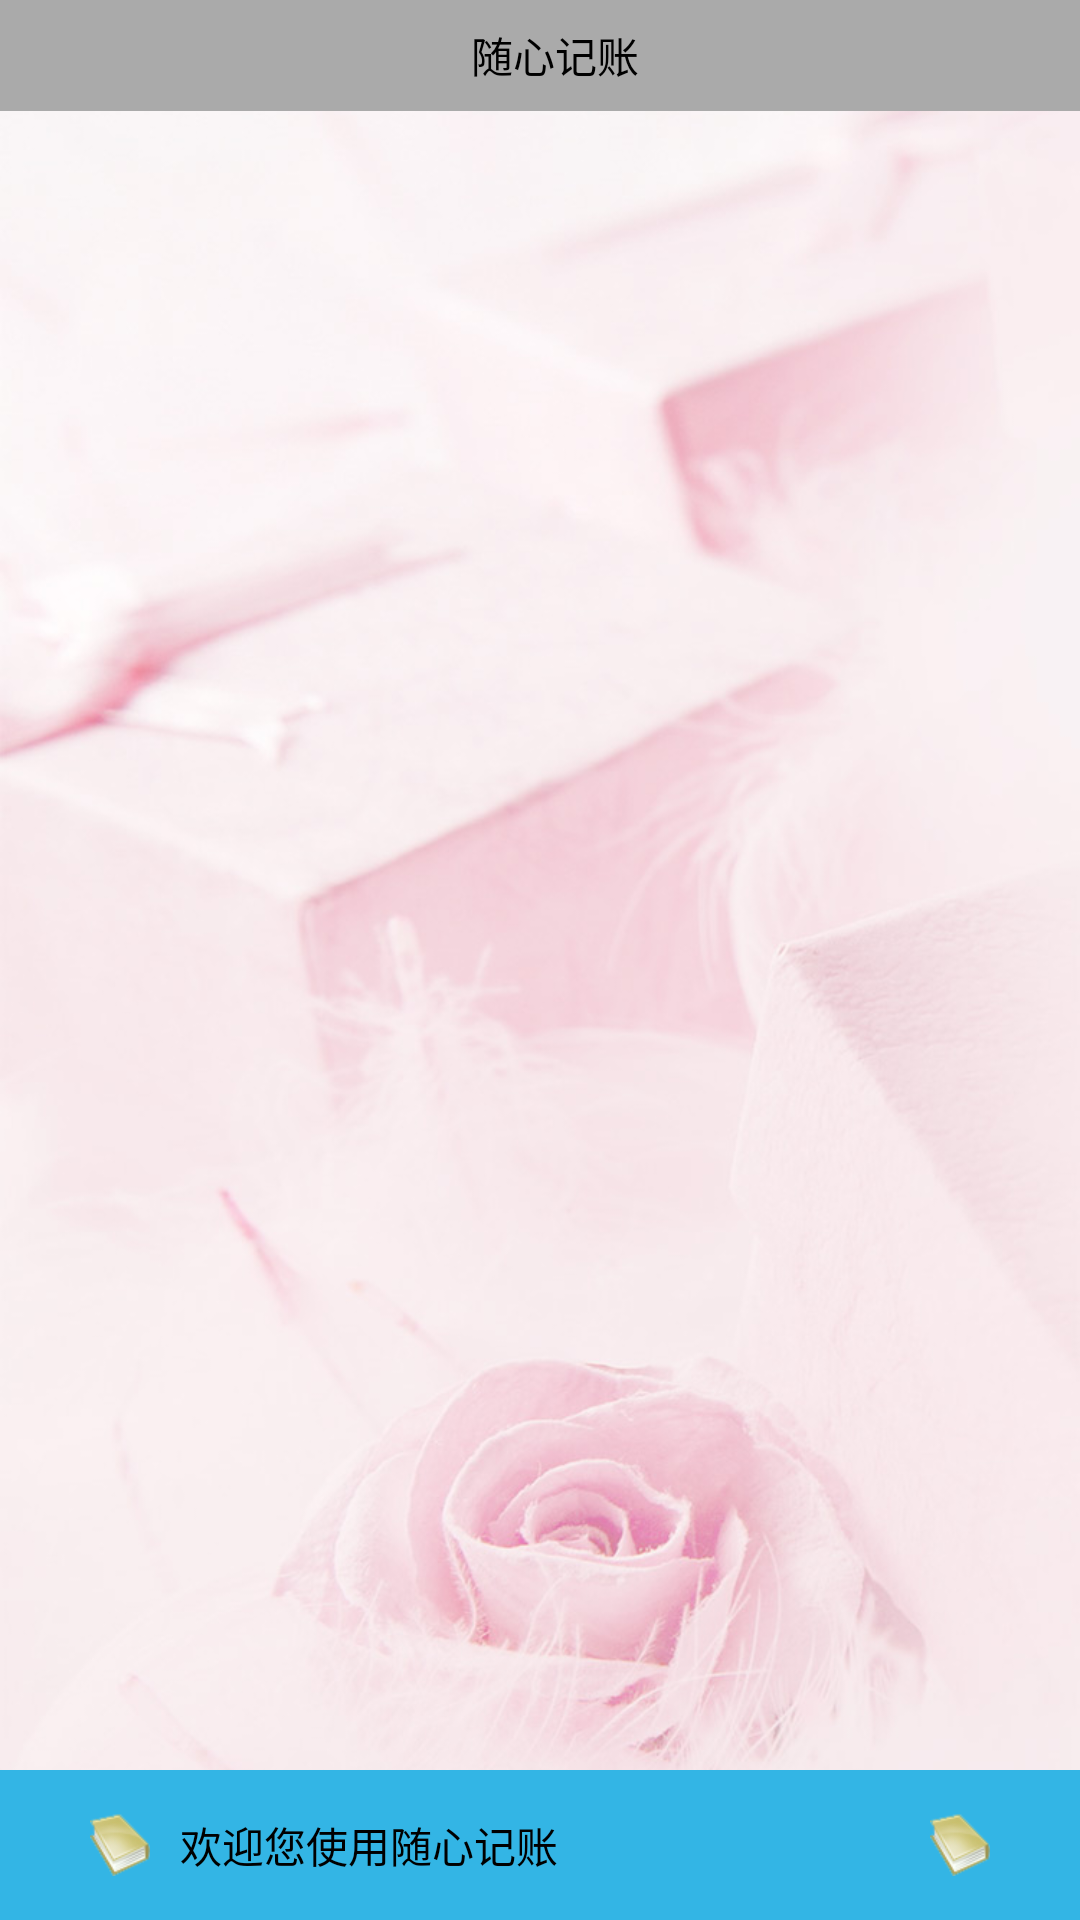

Locate icon controls on the screen. Image size 1080w x 1920h, boxes as bbox=(x1, y1, x2, y2).
account book: bbox=(90, 1814, 150, 1876), bbox=(930, 1814, 990, 1876)
